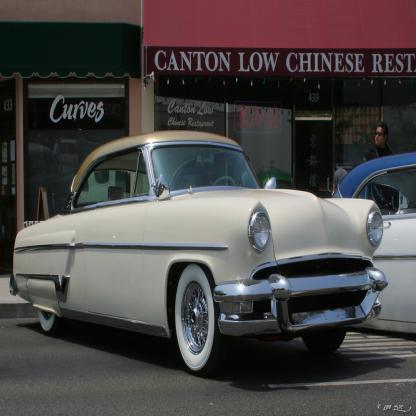car: (8, 128, 392, 376), (330, 152, 416, 336)
